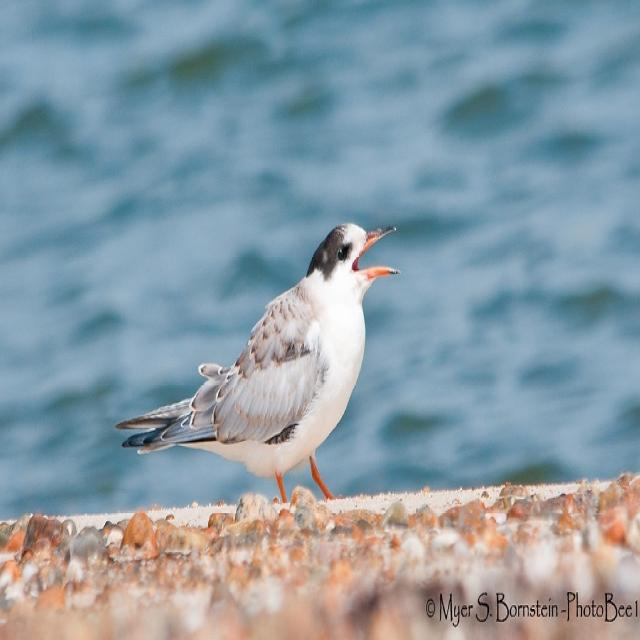bird: (114, 216, 414, 517)
